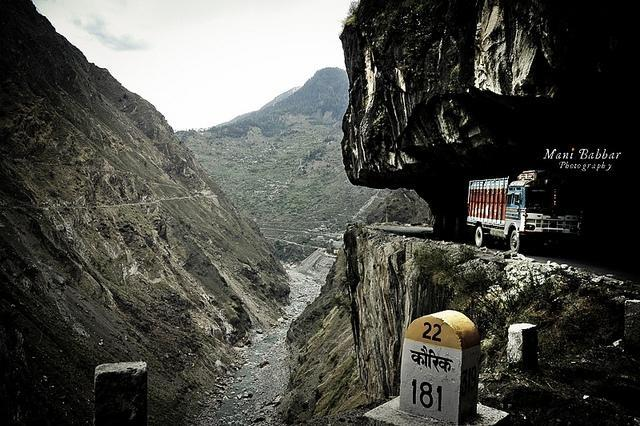truck: (464, 165, 588, 258)
